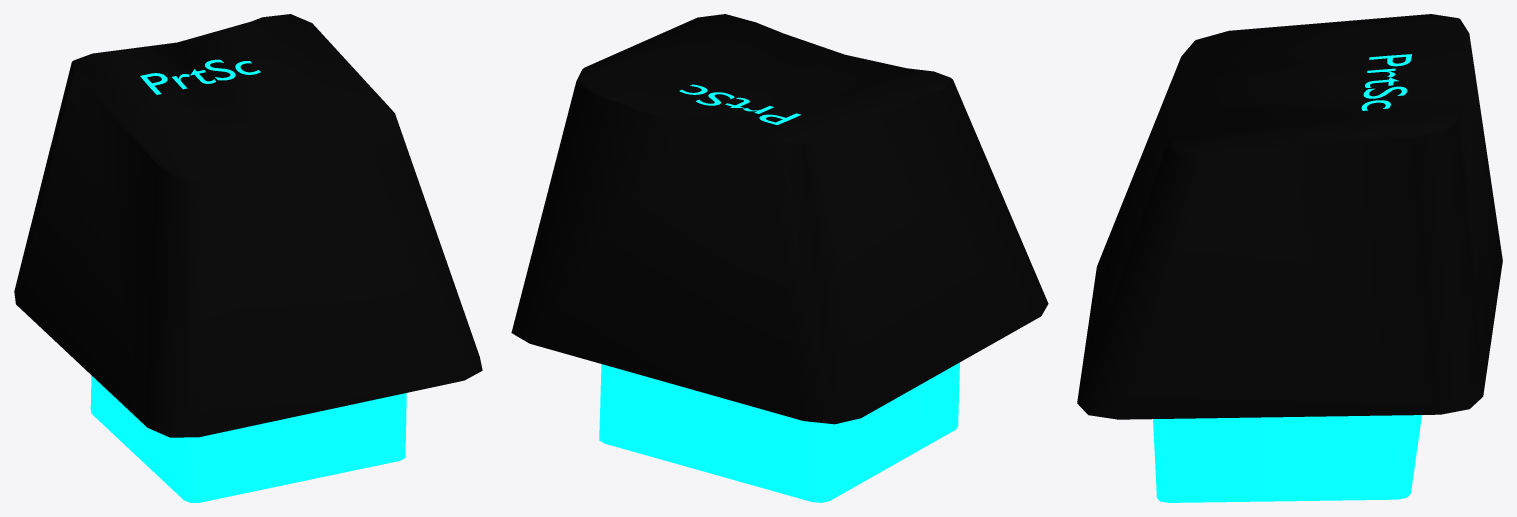
The model's file is prtsc-BWV1IN6v.glb.
The picture shows the model from 3 angles, left to right: view 1: azimuth 30°, elevation 25°; view 2: azimuth 150°, elevation 25°; view 3: azimuth 270°, elevation 25°; orthographic projection. The views are drawn at different scales.
Visible parts, largest first — view 1: StudyShelf_1095; view 2: StudyShelf_1095; view 3: StudyShelf_1095.
Boxes of the visible parts, x1=… form: StudyShelf_1095: x1=14, y1=14, x2=482, y2=502; StudyShelf_1095: x1=511, y1=14, x2=1048, y2=502; StudyShelf_1095: x1=1077, y1=14, x2=1502, y2=502.
Bounding box in the file's own units: 4.35 × 4.28 × 4.35.
